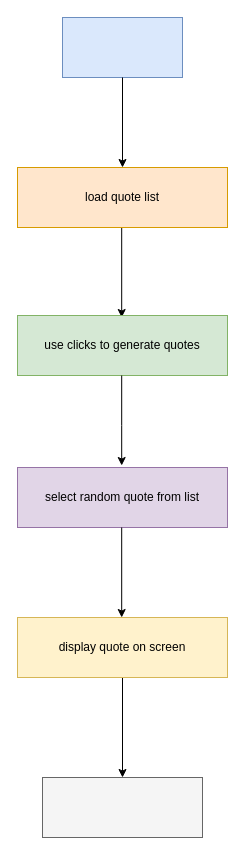
This 245x855 diagram has some shape labels left out. The centre of each missing label's shape, as x and y in pixels:
"end" goes at (122,807).
"start" goes at (122,47).
